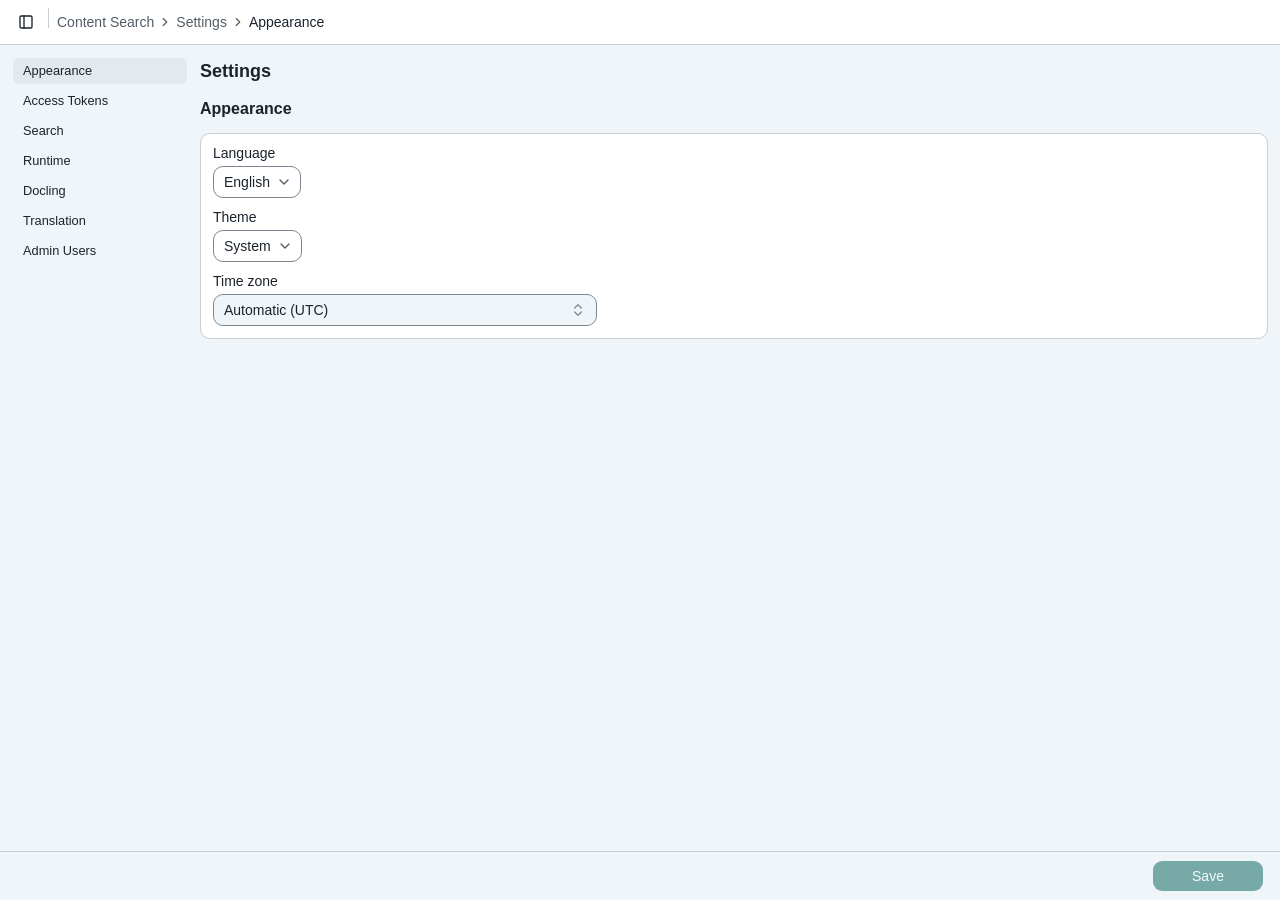
Scenario: appearance settings › keeps an appearance edit as a draft until Save
The image size is (1280, 900).
Click the dropdown with test id "settings-theme-select" at (257, 246), box [213,230,302,262]
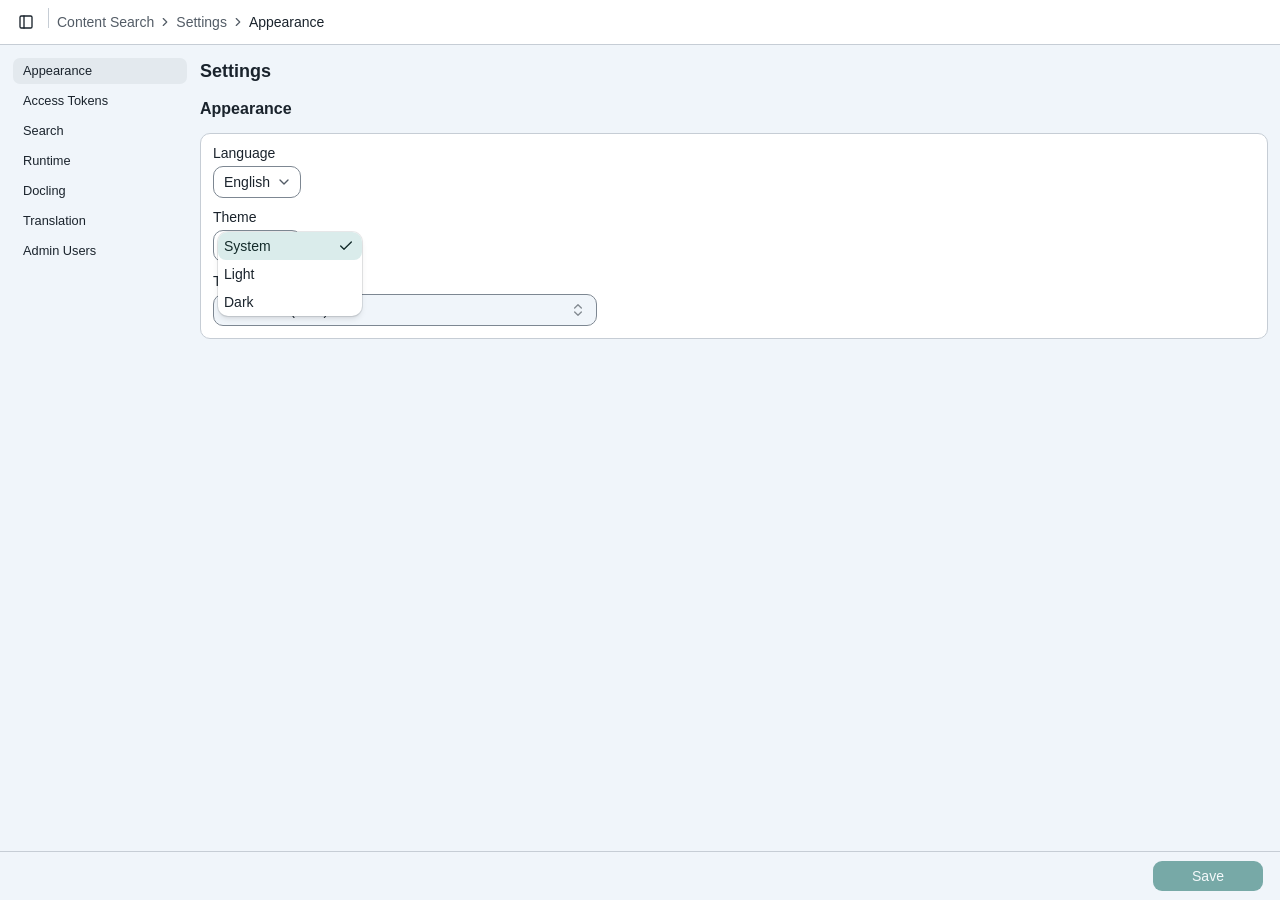
Click the option "Dark" at (239, 302), box [224,294,254,310]
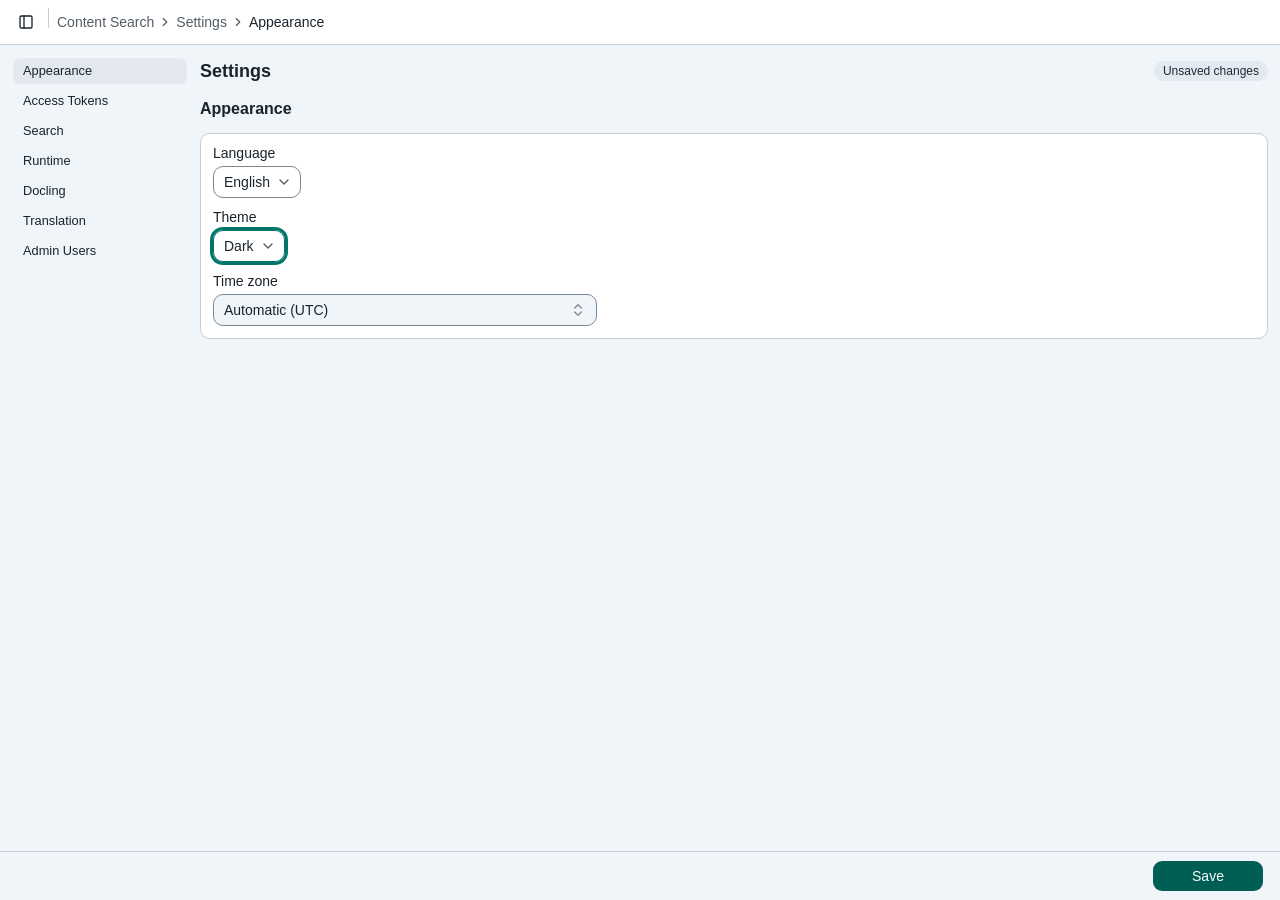
Expected: the text "Unsaved changes" is shown, [1154,61,1268,81]
Expected: the button with test id "settings-save" is enabled
Click the button with test id "settings-save" at (1208, 876), box [1152,860,1264,892]
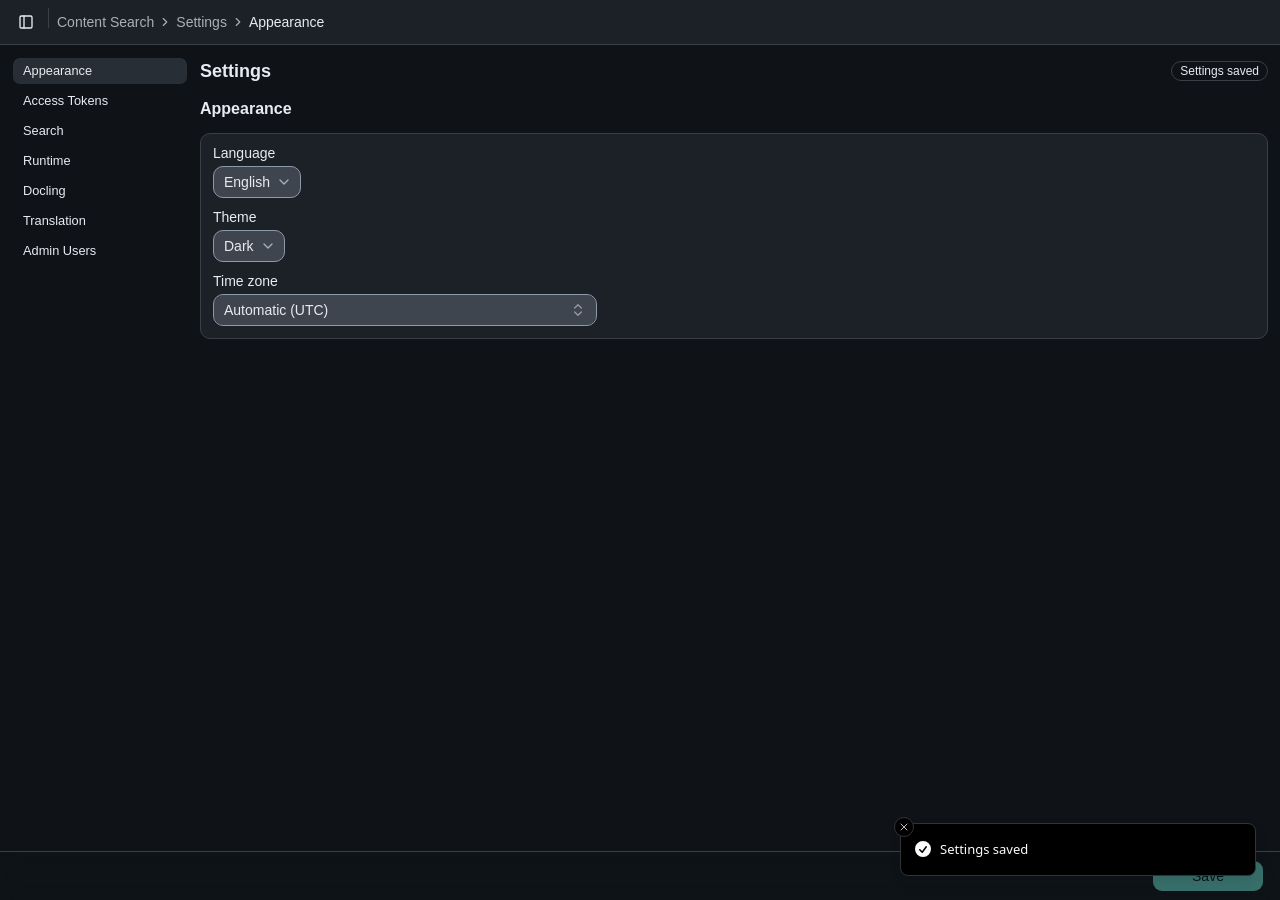
Expected: the 1st text "Settings saved" is shown, [1171,61,1268,81]
Expected: the button with test id "settings-save" is disabled, [1152,860,1264,892]
